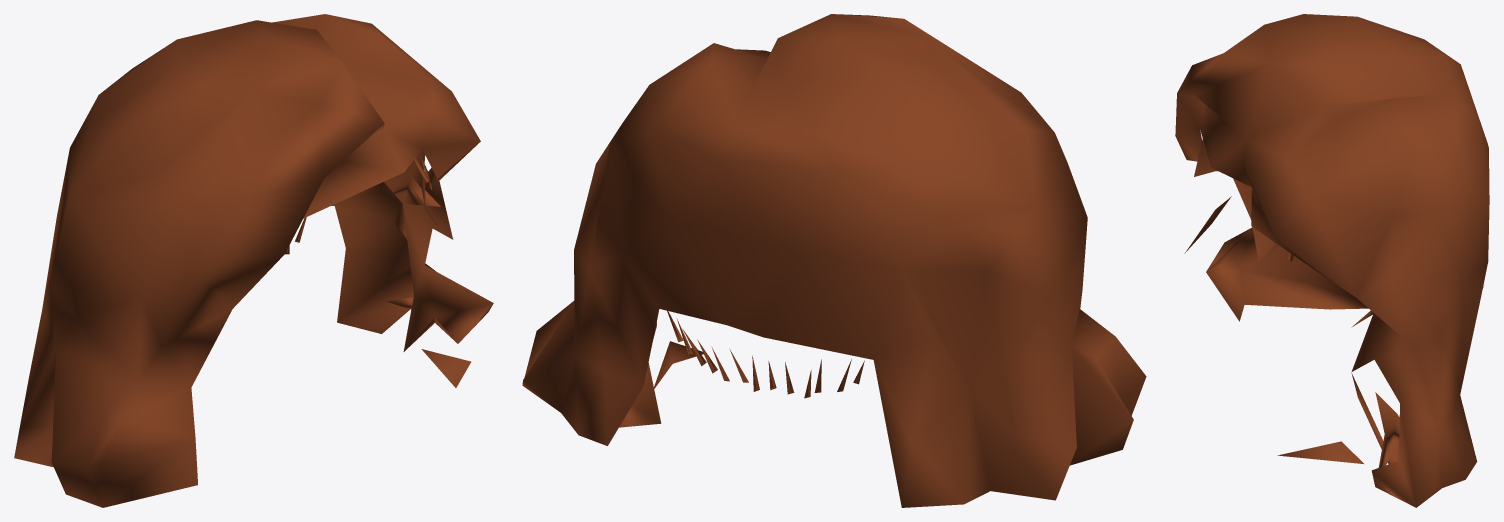
The model's file is long-wavy.glb.
3 views of the same model, side by side, from view 1: azimuth 30°, elevation 25°; view 2: azimuth 150°, elevation 25°; view 3: azimuth 270°, elevation 25° (orthographic). The views are drawn at different scales.
Parts seen in each view (by area): view 1: Hair; view 2: Hair, HairPulledRootStrands; view 3: Hair.
Boxes of the visible parts, box(x1,y1,x2,y2) form: Hair: box(14, 14, 493, 507); Hair: box(522, 14, 1146, 507); HairPulledRootStrands: box(667, 311, 864, 398); Hair: box(1175, 14, 1489, 507).
Bounding box in the file's own units: 0.8036 × 0.5656 × 0.4479.
